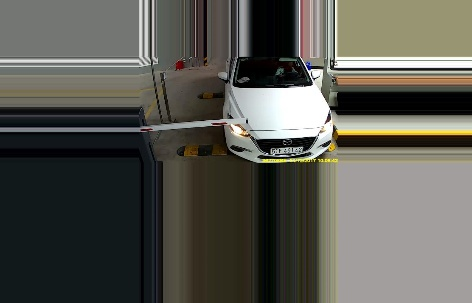plate: (270, 143, 304, 154)
